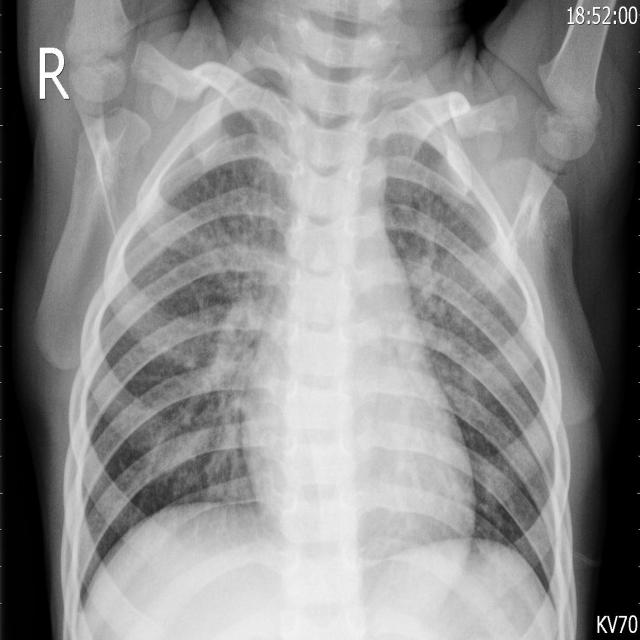low-pneumonia: (194, 230, 289, 469), (401, 213, 508, 392), (227, 59, 310, 188)
